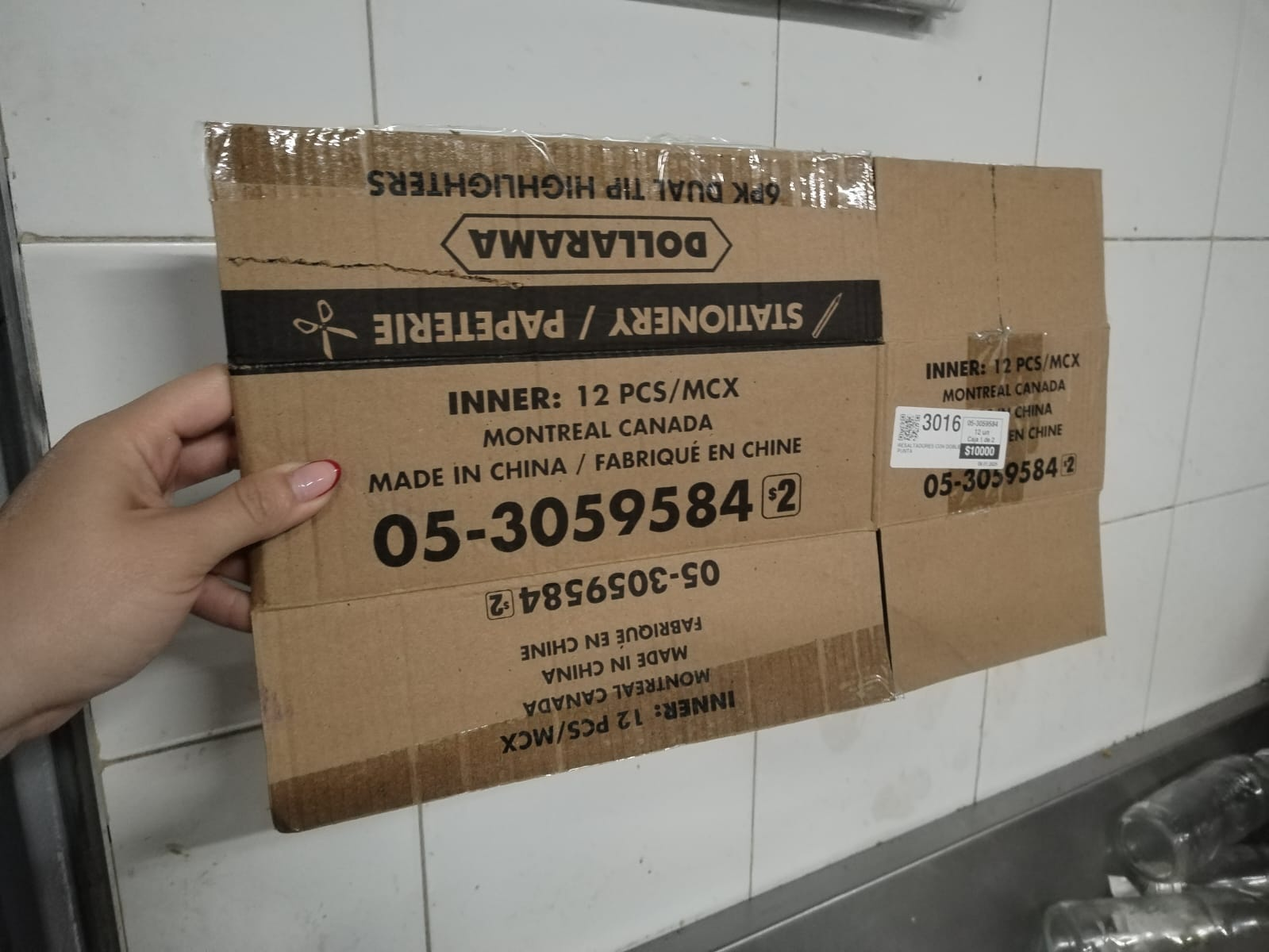Carton: (203, 122, 1105, 834)
